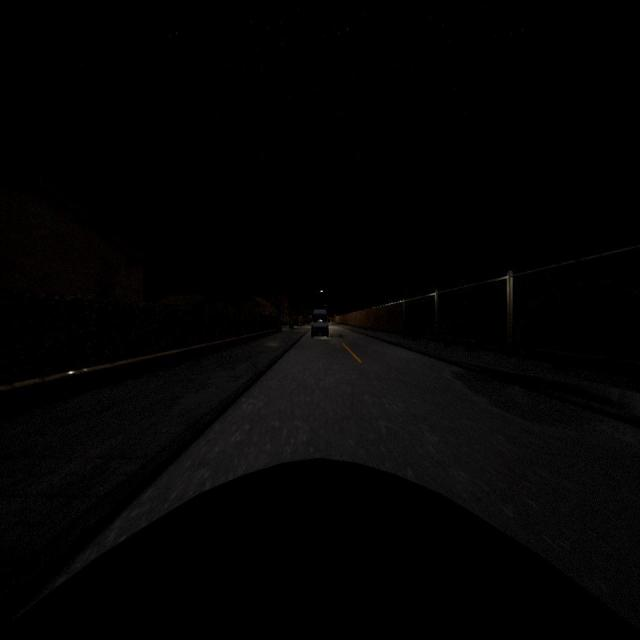Vehicle: (0, 457, 640, 640), (311, 309, 329, 337)
